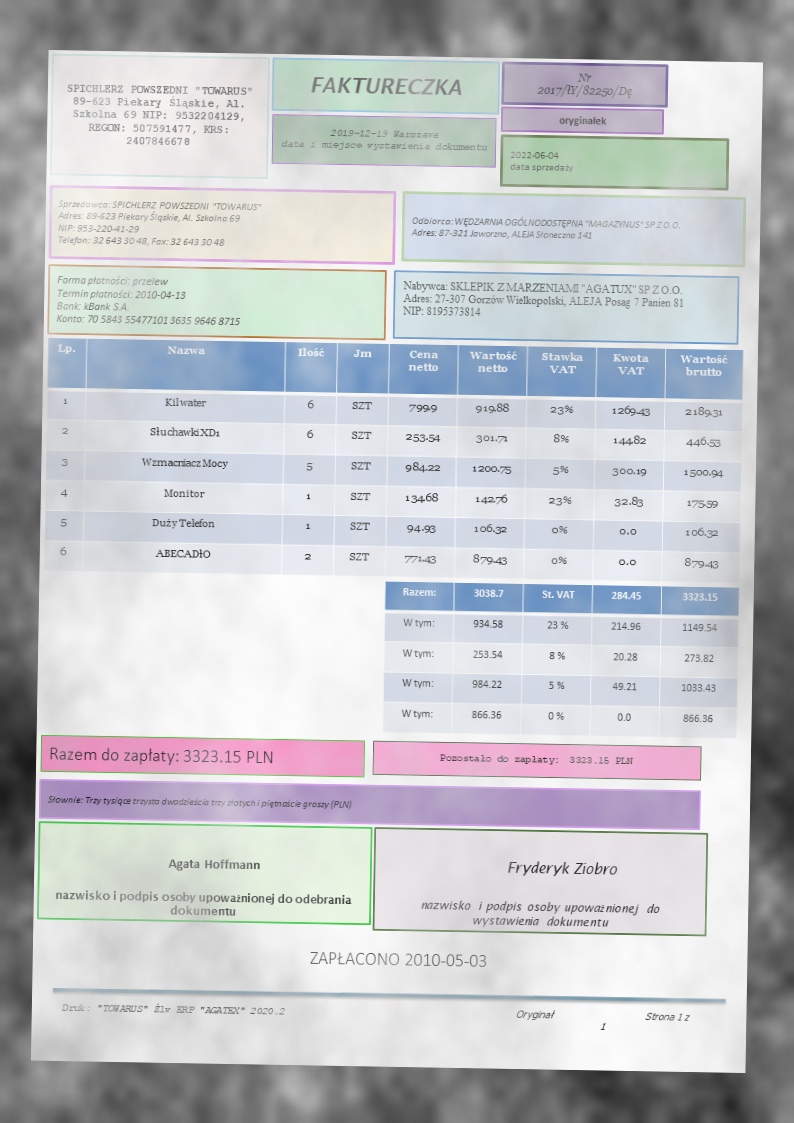Table: (43, 337, 743, 583), (381, 580, 740, 739)
TextBox: (64, 82, 253, 149), (401, 278, 687, 322), (55, 198, 265, 250), (54, 272, 243, 329), (54, 886, 353, 919), (408, 213, 683, 243), (419, 898, 661, 930), (278, 124, 489, 153), (45, 793, 353, 812), (48, 745, 274, 769), (515, 1009, 693, 1033), (308, 948, 489, 970), (310, 74, 463, 98), (61, 1002, 286, 1017), (438, 752, 634, 769), (536, 70, 636, 100), (505, 857, 620, 880), (508, 149, 575, 174), (167, 857, 261, 874), (558, 113, 608, 129)
